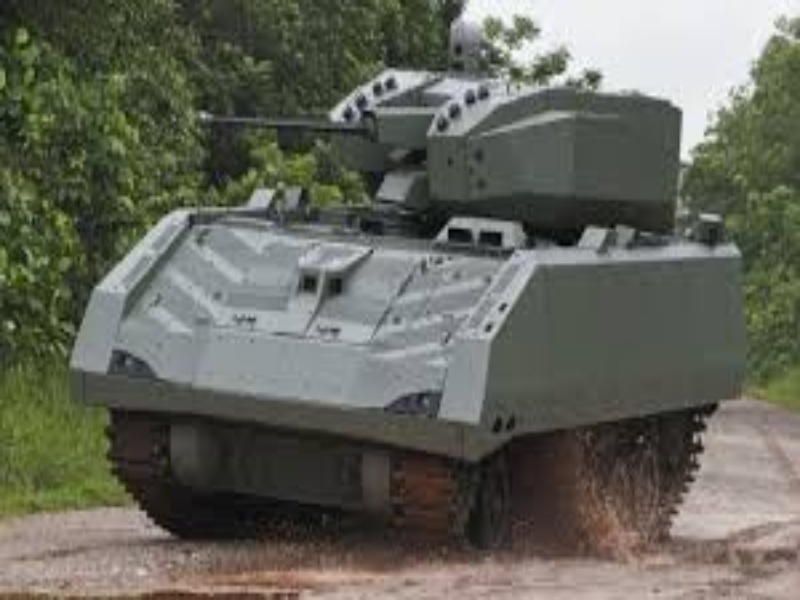tank: (67, 12, 750, 561)
